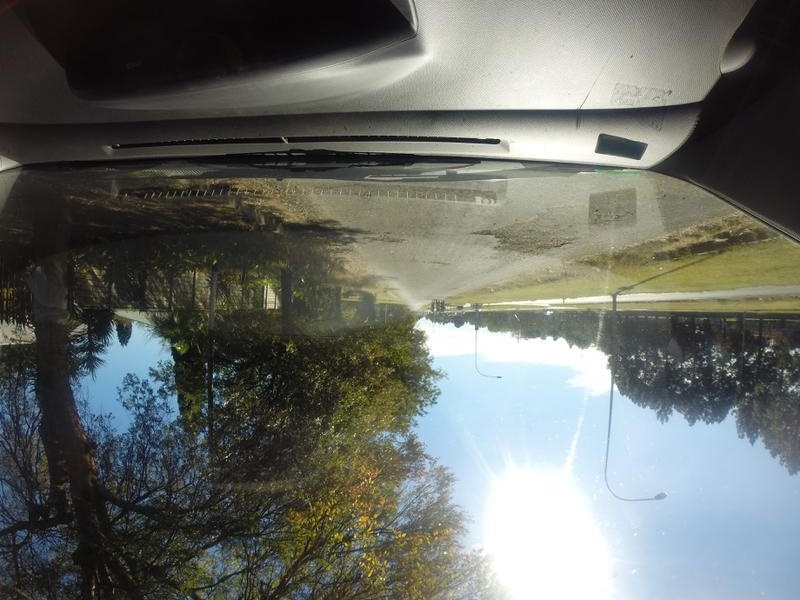pothole: (470, 202, 589, 261), (594, 196, 646, 231), (361, 231, 422, 248), (413, 256, 463, 269)
